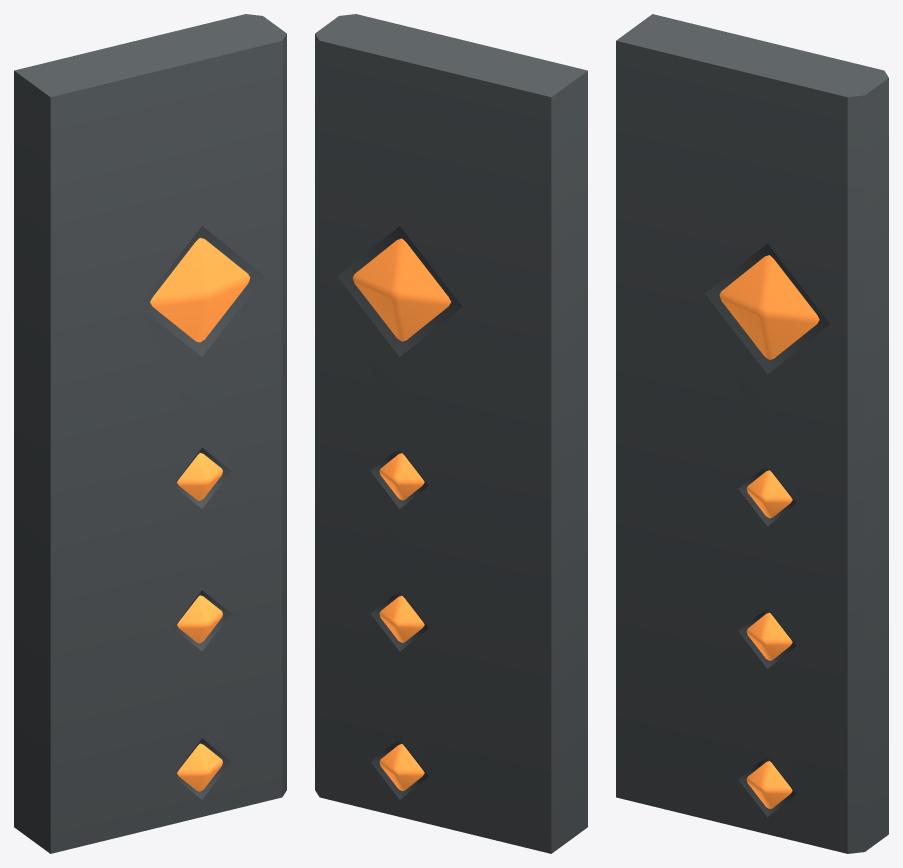
Rendered from door_001.glb.
3 views of the same model, side by side, from view 1: azimuth 30°, elevation 25°; view 2: azimuth 150°, elevation 25°; view 3: azimuth 330°, elevation 25° (orthographic).
Parts seen in each view (by area): view 1: door_001; view 2: door_001; view 3: door_001.
Part boxes in pixels (x1=…): door_001: x1=14, y1=14, x2=286, y2=853; door_001: x1=315, y1=14, x2=587, y2=853; door_001: x1=616, y1=14, x2=888, y2=853.
Bounding box in the file's own units: 1.63 × 4.85 × 0.544.
2 materials, 2 textured.
